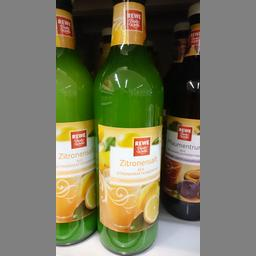juice: (92, 1, 164, 254), (55, 2, 97, 246), (162, 4, 198, 218)
